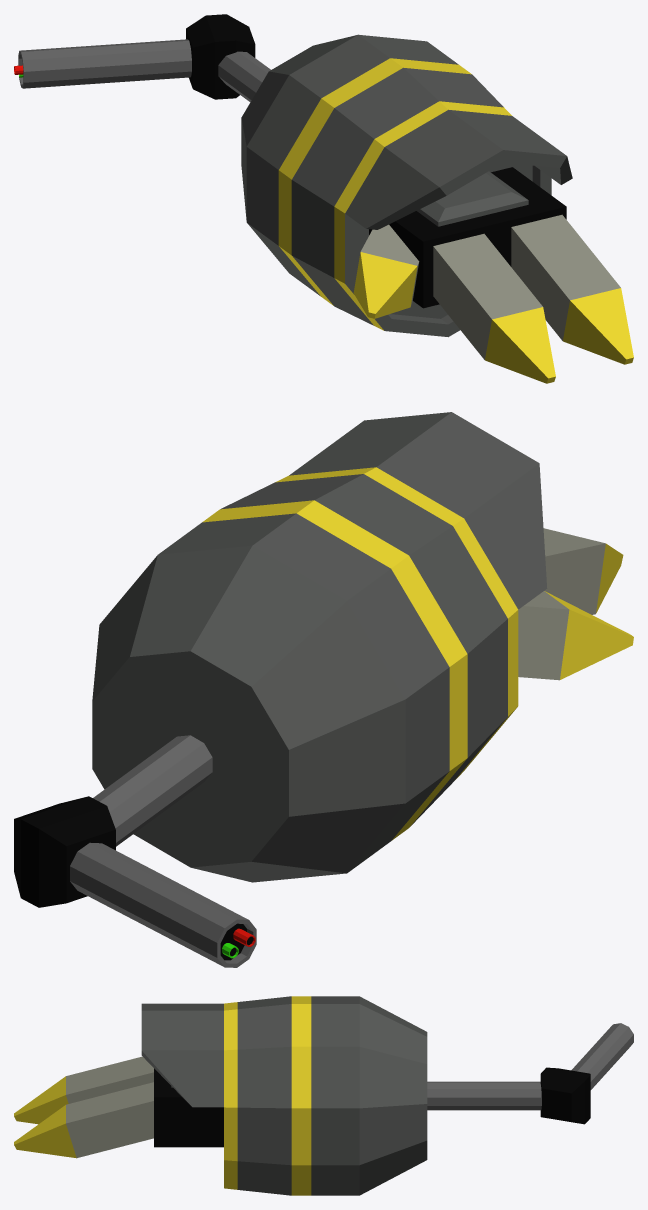
The model's file is RobotArm_Prop.fbx.
The picture shows the model from 3 angles, top to bottom: view 1: azimuth 30°, elevation 25°; view 2: azimuth 150°, elevation 25°; view 3: azimuth 270°, elevation 25°; orthographic projection. The views are drawn at different scales.
Parts seen in each view (by area): view 1: Cylinder.004, Cube.013, Cylinder.006, Cube.012, Cube.014, Cube.011, Cube.015, Cylinder.005; view 2: Cylinder.004, Cylinder.006, Cube.011, Cube.014, Cylinder.005, Cube.013; view 3: Cylinder.004, Cube.013, Cube.012, Cylinder.005, Cube.011, Cylinder.006.
Boxes of the visible parts, left/top/right/bottom form: Cylinder.004: left=241, top=34, right=572, bottom=337; Cube.013: left=433, top=214, right=633, bottom=383; Cylinder.006: left=18, top=39, right=191, bottom=88; Cube.012: left=369, top=167, right=566, bottom=308; Cube.014: left=353, top=224, right=419, bottom=318; Cube.011: left=186, top=14, right=255, bottom=99; Cube.015: left=416, top=171, right=528, bottom=226; Cylinder.005: left=218, top=51, right=270, bottom=102; Cylinder.004: left=92, top=412, right=547, bottom=882; Cylinder.006: left=70, top=842, right=256, bottom=967; Cube.011: left=14, top=796, right=115, bottom=907; Cube.014: left=518, top=591, right=633, bottom=680; Cylinder.005: left=93, top=735, right=212, bottom=846; Cube.013: left=543, top=528, right=623, bottom=614; Cylinder.004: left=141, top=996, right=427, bottom=1195; Cube.013: left=14, top=1056, right=153, bottom=1158; Cube.012: left=154, top=1068, right=223, bottom=1147; Cylinder.005: left=427, top=1081, right=541, bottom=1110; Cube.011: left=540, top=1067, right=590, bottom=1124; Cylinder.006: left=571, top=1023, right=633, bottom=1089.
Bounding box in the file's own units: 242 × 200 × 610.
